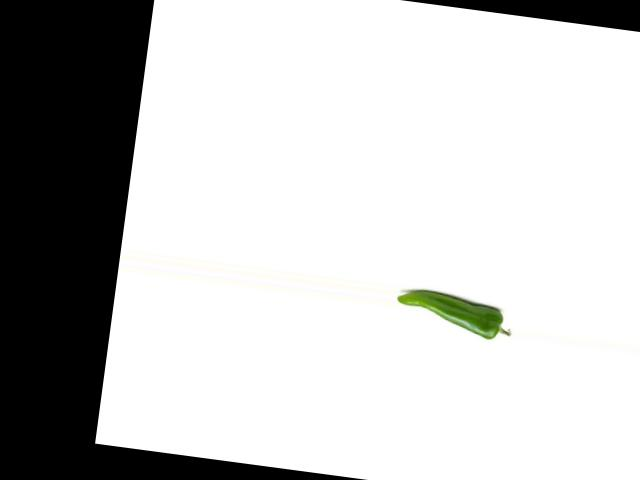bell_pepper: (392, 284, 519, 344)
